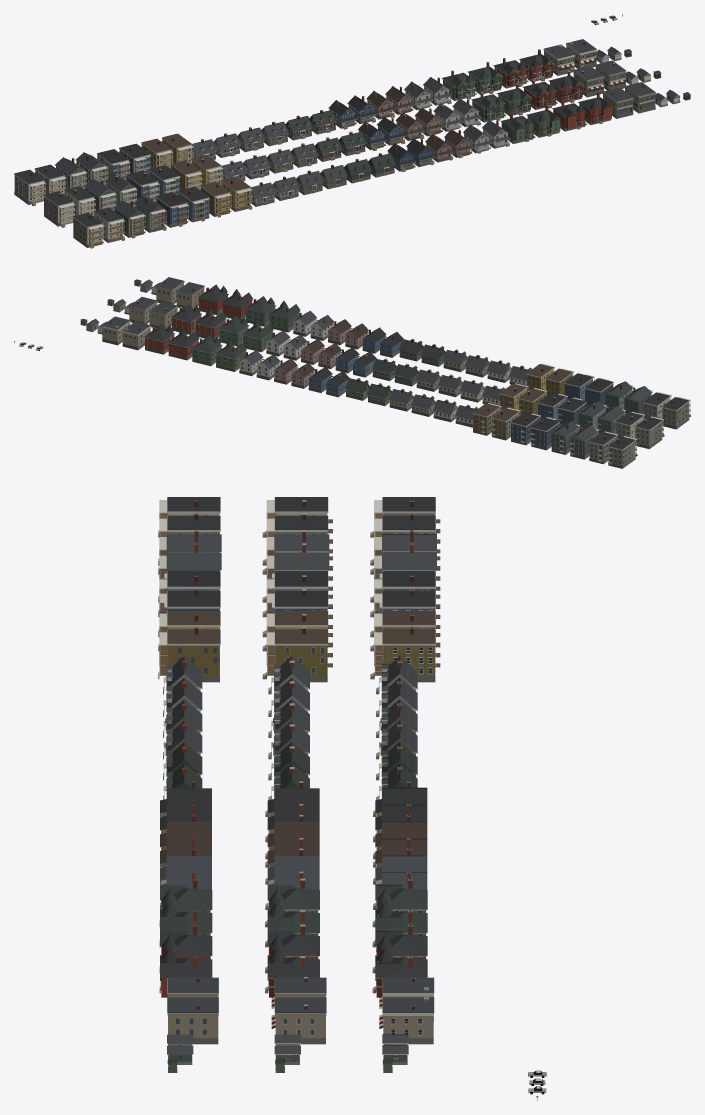
File: houses.glb
The picture shows the model from 3 angles, top to bottom: view 1: azimuth 30°, elevation 25°; view 2: azimuth 150°, elevation 25°; view 3: azimuth 270°, elevation 25°; orthographic projection. The views are drawn at different scales.
Parts seen in each view (by area): view 1: td_a_0, td_a_2, td_a_1, td_c_2, td_cm_2, td_bm_2, td_b_2, td_am_2, td_d_2, td_dm_2, vic_a_1, vic_a_2 (+66 smaller); view 2: td_a_0, td_a_1, td_a_2, td_c_0, td_cm_0, vic_a_2, vic_a_0, vic_b_0, vic_bm_0, vic_am_0, vic_a_1, td_b_0 (+66 smaller); view 3: td_dm_1, td_dm_0, td_dm_2, store_am_0, store_am_1, store_am_2, td_bm_1, td_bm_0, vic_a_0, td_cm_1, vic_b_1, vic_b_0 (+43 smaller).
Part boxes in pixels (x1,y1,x2,y2): td_a_0: (14,169,45,206); td_a_2: (72,212,104,248); td_a_1: (43,191,74,227); td_c_2: (155,192,188,227); td_cm_2: (177,186,209,222); td_bm_2: (134,195,166,232); td_b_2: (114,200,145,238); td_am_2: (93,207,124,242); td_d_2: (200,181,231,217); td_dm_2: (220,176,252,211); vic_a_1: (471,92,506,122); vic_a_2: (500,113,535,143); td_a_0: (608,436,637,468); td_a_1: (635,416,664,449); td_a_2: (662,397,690,429); td_c_0: (530,417,559,450); td_cm_0: (510,412,540,445); vic_a_2: (269,300,300,332); vic_a_0: (215,338,246,371); vic_b_0: (167,327,199,360); vic_bm_0: (144,323,175,354); vic_am_0: (191,335,222,366); vic_a_1: (241,319,273,352); td_b_0: (569,425,598,459); td_dm_1: (262,627,332,682); td_dm_0: (370,627,440,682); td_dm_2: (158,627,220,682); store_am_0: (379,997,434,1044); store_am_1: (271,997,326,1044); store_am_2: (167,997,218,1044); td_bm_1: (262,543,332,602); td_bm_0: (370,543,440,602); vic_a_0: (372,878,427,927); td_cm_1: (262,589,332,637); vic_b_1: (265,924,319,973); vic_b_0: (372,924,427,973).
Bounding box in the file's own units: 350 × 15.02 × 101.
